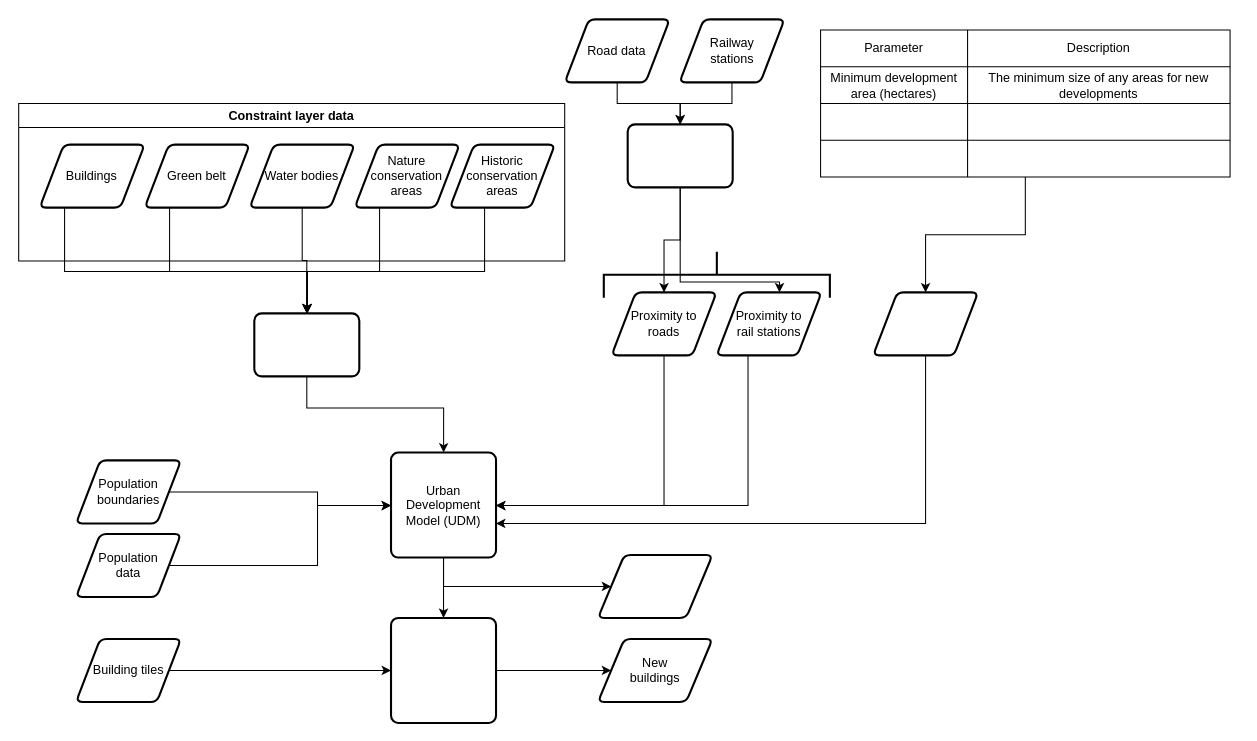
Image size: 1257x741. Some labels were removed from this diagram. The centre of each missing label's shape, as x and y in pixels:
"Attractor layer" goes at point (716, 274).
"Development suitability" goes at point (654, 585).
"Format convertor (vector to raster)" goes at point (306, 344).
"Parameters" goes at point (925, 323).
"Proximity mapper" goes at point (679, 155).
"UDM Downscaling" goes at point (443, 669).
